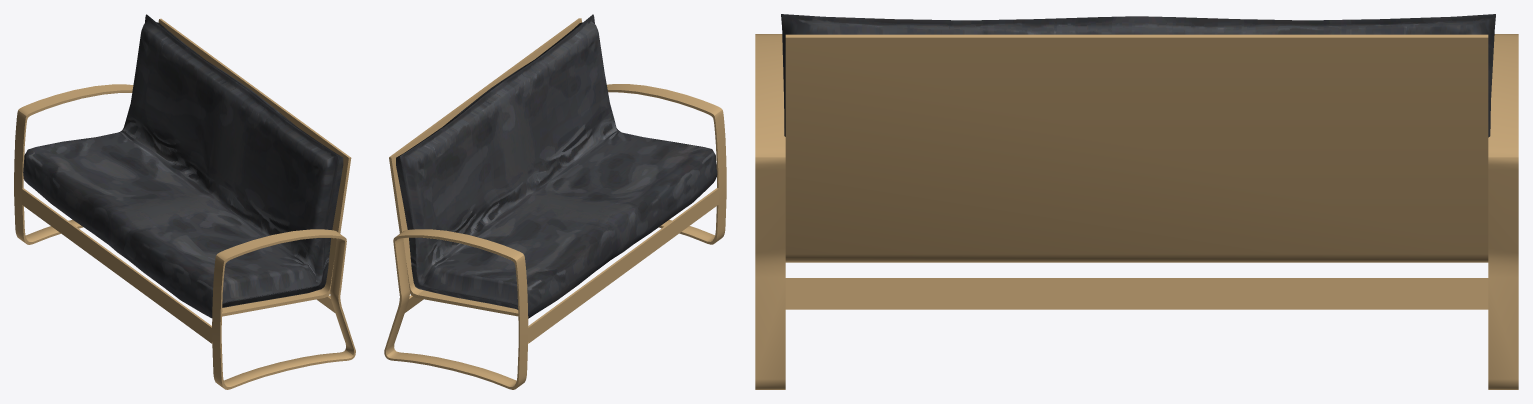
Rendered from Sofa_H1.obj.
3 views of the same model, side by side, from view 1: azimuth 30°, elevation 25°; view 2: azimuth 150°, elevation 25°; view 3: azimuth 270°, elevation 25° (orthographic). The views are drawn at different scales.
Visible parts, largest first — view 1: Sofa_H1; view 2: Sofa_H1; view 3: Sofa_H1.
Part boxes in pixels (x1,y1,x2,y2): Sofa_H1: [14, 14, 355, 389]; Sofa_H1: [384, 14, 726, 389]; Sofa_H1: [755, 14, 1518, 389].
Bounding box in the file's own units: 0.5181 × 0.6925 × 1.29.
Materials: 2 (2 with a texture image).
